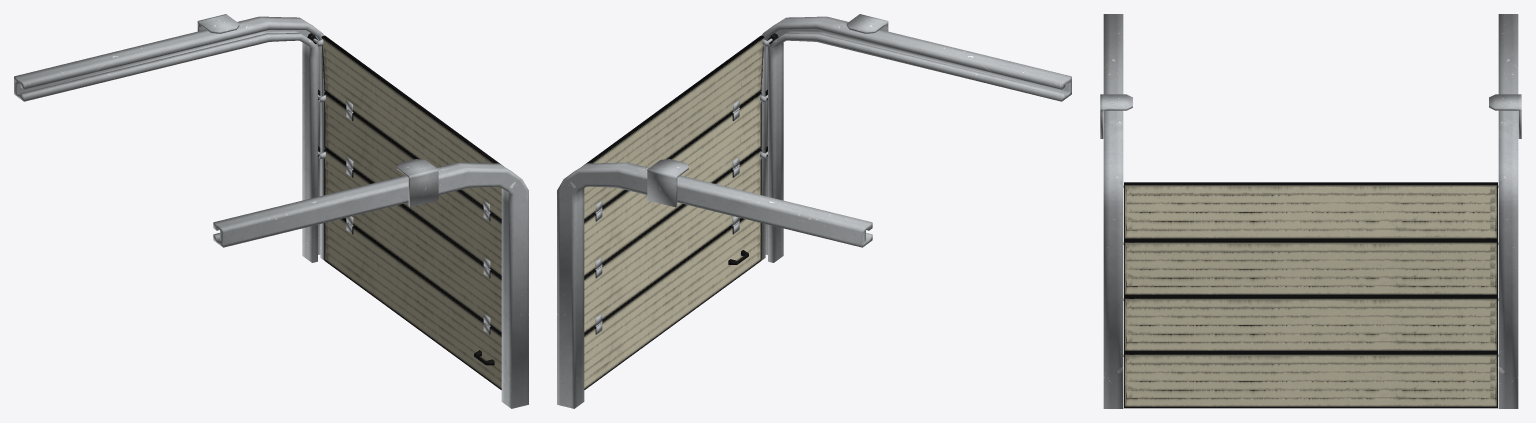
Rendered from gates_low.fbx.
3 views of the same model, side by side, from view 1: azimuth 30°, elevation 25°; view 2: azimuth 150°, elevation 25°; view 3: azimuth 270°, elevation 25° (orthographic).
Visible parts, largest first — view 1: guides_low, gate part_low, gate part_low.003, gate part_low.001, gate part_low.002; view 2: guides_low, gate part_low, gate part_low.003, gate part_low.001, gate part_low.002; view 3: gate part_low.003, gate part_low.001, gate part_low, gate part_low.002, guides_low.
Part boxes in pixels (box(x1,y1,x2,y2)): guides_low: box(14, 14, 528, 408); gate part_low: box(324, 218, 501, 389); gate part_low.003: box(307, 33, 502, 220); gate part_low.001: box(318, 146, 501, 333); gate part_low.002: box(318, 89, 501, 276); guides_low: box(557, 14, 1071, 408); gate part_low: box(584, 218, 761, 389); gate part_low.003: box(583, 33, 778, 220); gate part_low.001: box(584, 146, 767, 333); gate part_low.002: box(584, 89, 767, 276); gate part_low.003: box(1123, 182, 1498, 239); gate part_low.001: box(1123, 296, 1498, 352); gate part_low: box(1123, 352, 1498, 408); gate part_low.002: box(1123, 240, 1498, 295); guides_low: box(1100, 14, 1521, 408).
Bounding box in the file's own units: 3.71 × 3 × 4.47.
